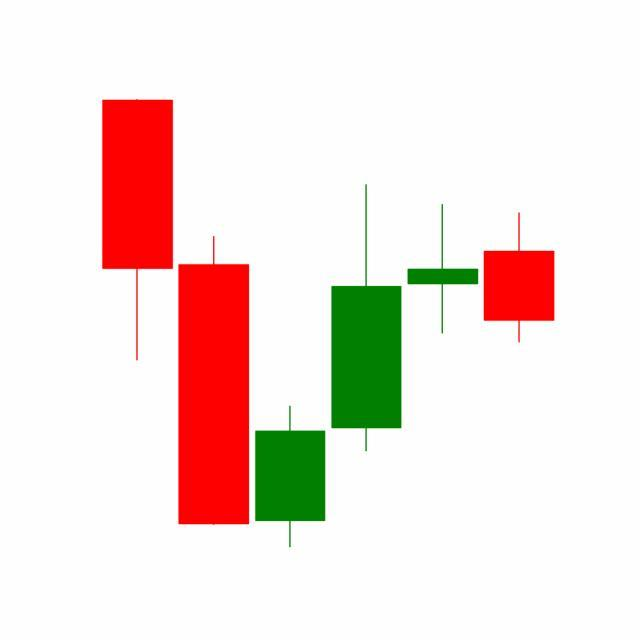Hikkake Pattern: (175, 180, 555, 549)
